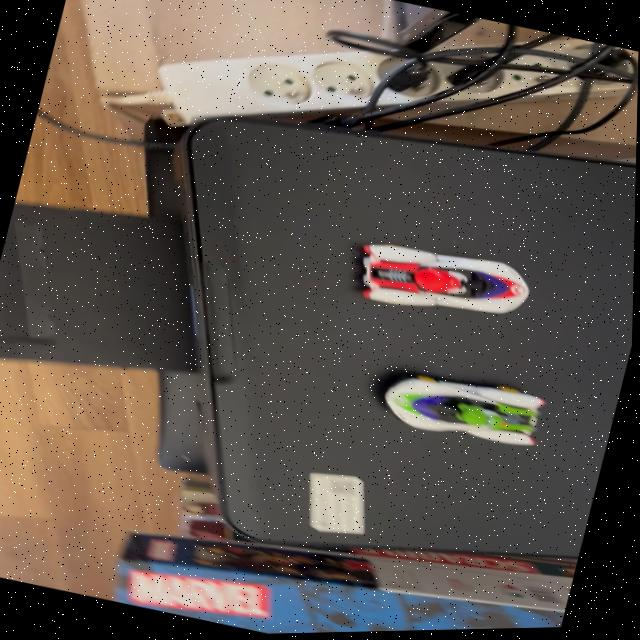mario: (332, 225, 553, 350)
yoshi: (366, 349, 570, 468)
